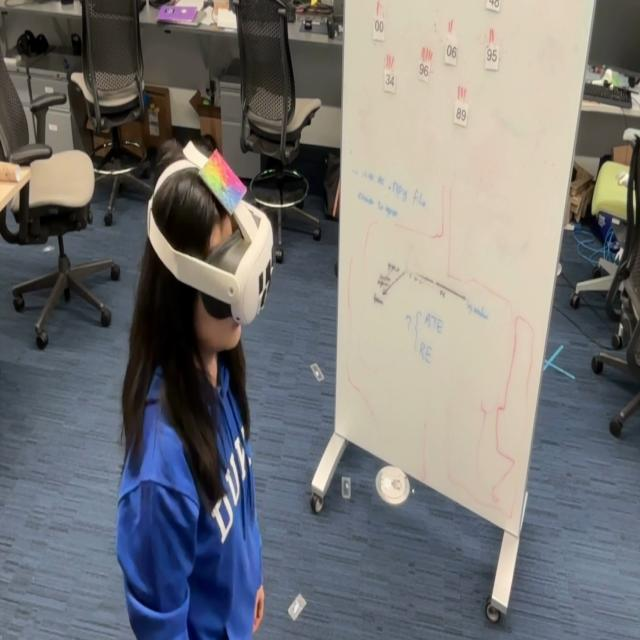Headset: (146, 157, 274, 326)
Marker: (206, 156, 251, 218)
